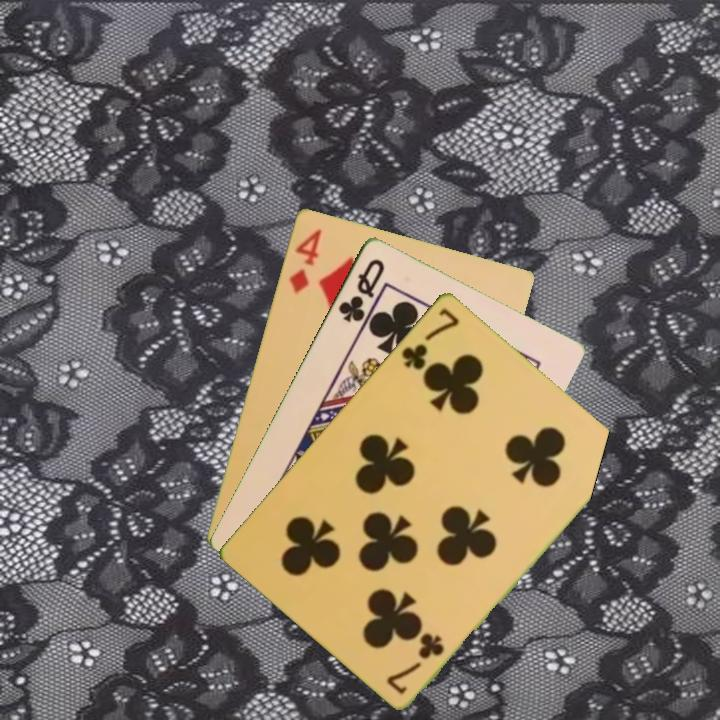4d: (285, 225, 325, 296)
7c: (397, 303, 462, 373), (383, 628, 447, 697)
Qc: (334, 254, 388, 325)
